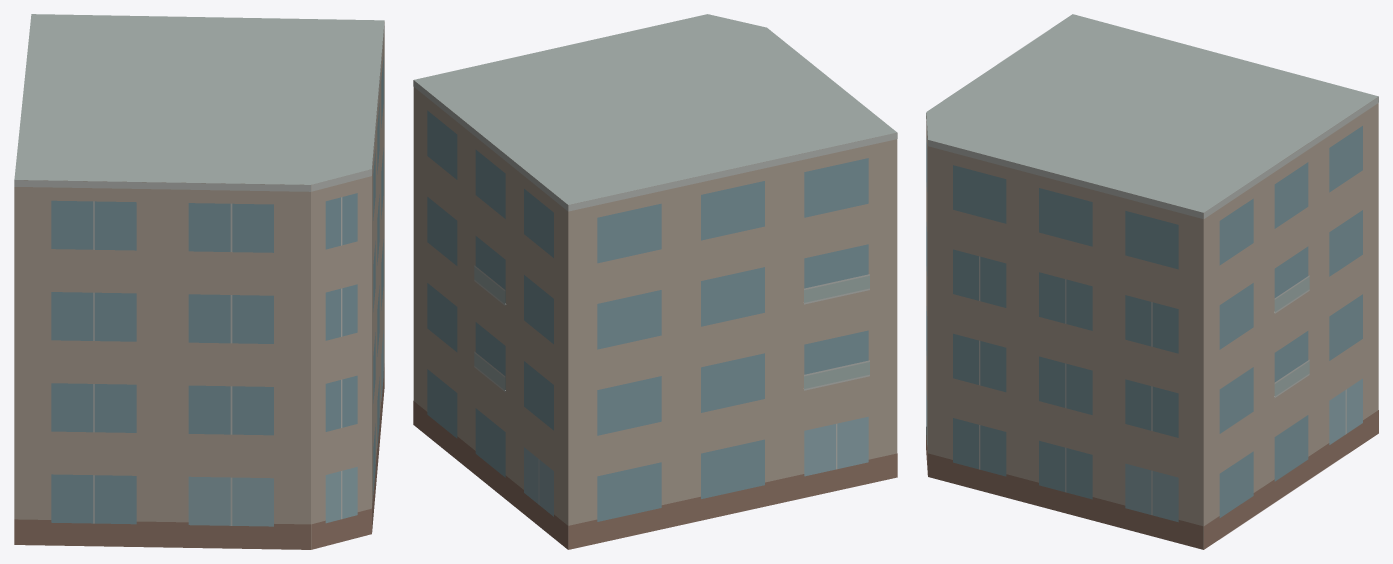
File: survey-upis-32732724.glb
3 renders of one model, left to right at view 1: azimuth 30°, elevation 25°; view 2: azimuth 150°, elevation 25°; view 3: azimuth 270°, elevation 25°, orthographic. The views are drawn at different scales.
Visible parts, largest first — view 1: survey-upis-32732724.tmp; view 2: survey-upis-32732724.tmp; view 3: survey-upis-32732724.tmp.
Boxes of the visible parts, x1,y1,x2,y2 form: survey-upis-32732724.tmp: (14, 14, 384, 549); survey-upis-32732724.tmp: (413, 14, 897, 549); survey-upis-32732724.tmp: (926, 14, 1378, 549).
Bounding box in the file's own units: 16.2 × 12.8 × 15.59.
